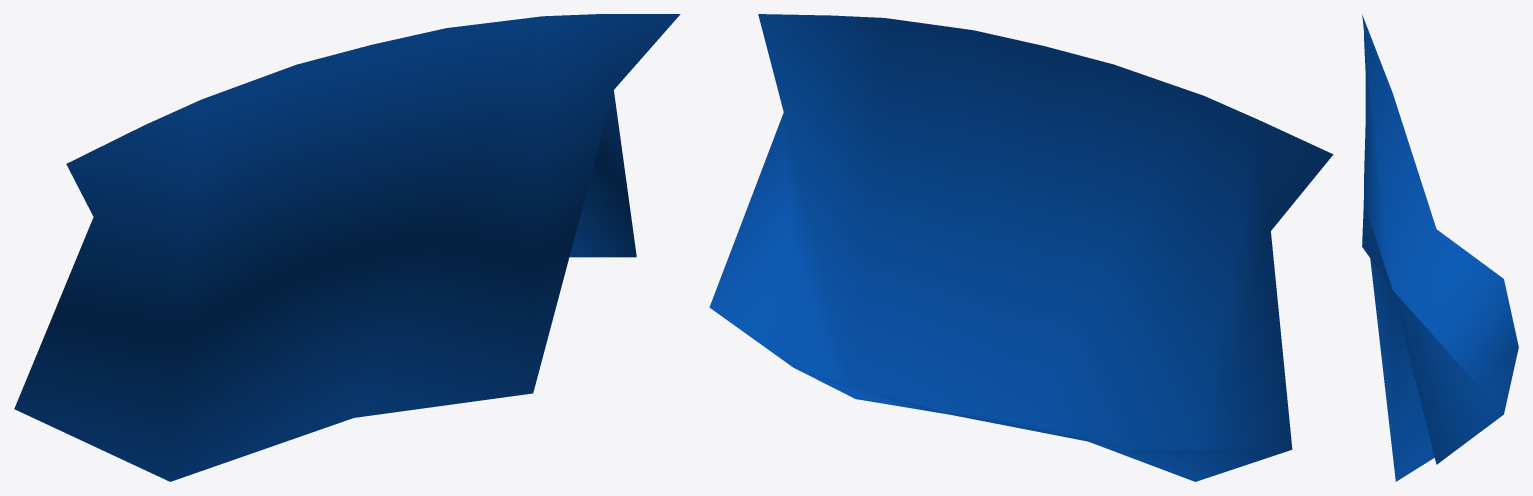
Rendered from hood.fbx.
3 views of the same model, side by side, from view 1: azimuth 30°, elevation 25°; view 2: azimuth 150°, elevation 25°; view 3: azimuth 270°, elevation 25° (orthographic). The views are drawn at different scales.
Visible parts, largest first — view 1: BodyMain.002; view 2: BodyMain.002; view 3: BodyMain.002.
Part boxes in pixels (x1=…): BodyMain.002: x1=14, y1=14, x2=680, y2=481; BodyMain.002: x1=709, y1=14, x2=1333, y2=481; BodyMain.002: x1=1362, y1=14, x2=1518, y2=481.
Bounding box in the file's own units: 71.6 × 44.74 × 20.13.
